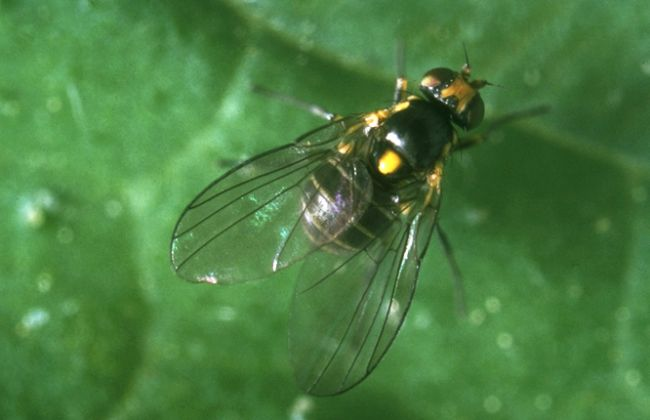Trifoli: (218, 49, 545, 375)
